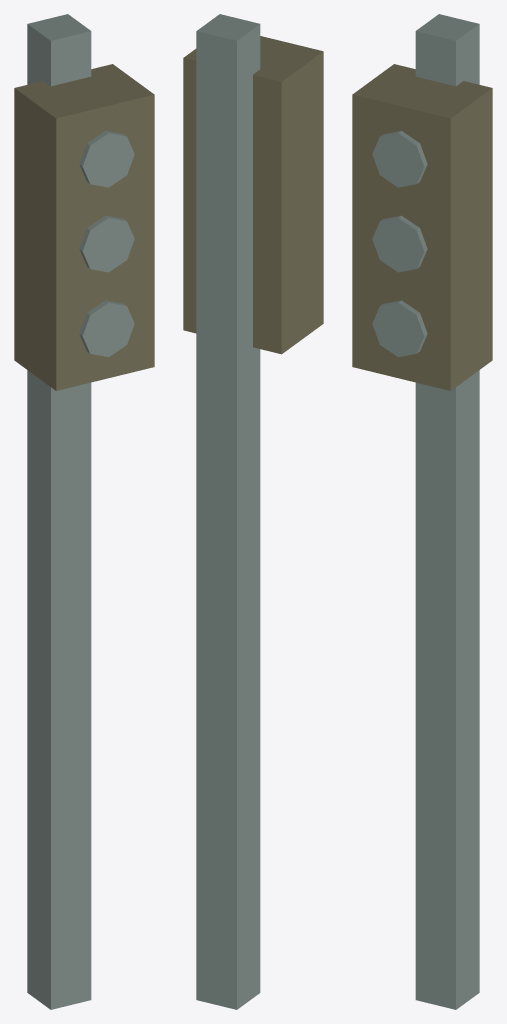
File: SM_Semaforo_v0_Simple_LOD0.fbx
The picture shows the model from 3 angles, left to right: view 1: azimuth 30°, elevation 25°; view 2: azimuth 150°, elevation 25°; view 3: azimuth 330°, elevation 25°; orthographic projection.
Parts seen in each view (by area): view 1: SM_urbano_extra_v20_LOD0; view 2: SM_urbano_extra_v20_LOD0; view 3: SM_urbano_extra_v20_LOD0.
Part boxes in pixels (box(x1,y1,x2,y2)): SM_urbano_extra_v20_LOD0: box(14, 14, 154, 1009); SM_urbano_extra_v20_LOD0: box(183, 14, 323, 1009); SM_urbano_extra_v20_LOD0: box(352, 14, 492, 1009).
Bounding box in the file's own units: 0.34 × 3.2 × 0.365.
